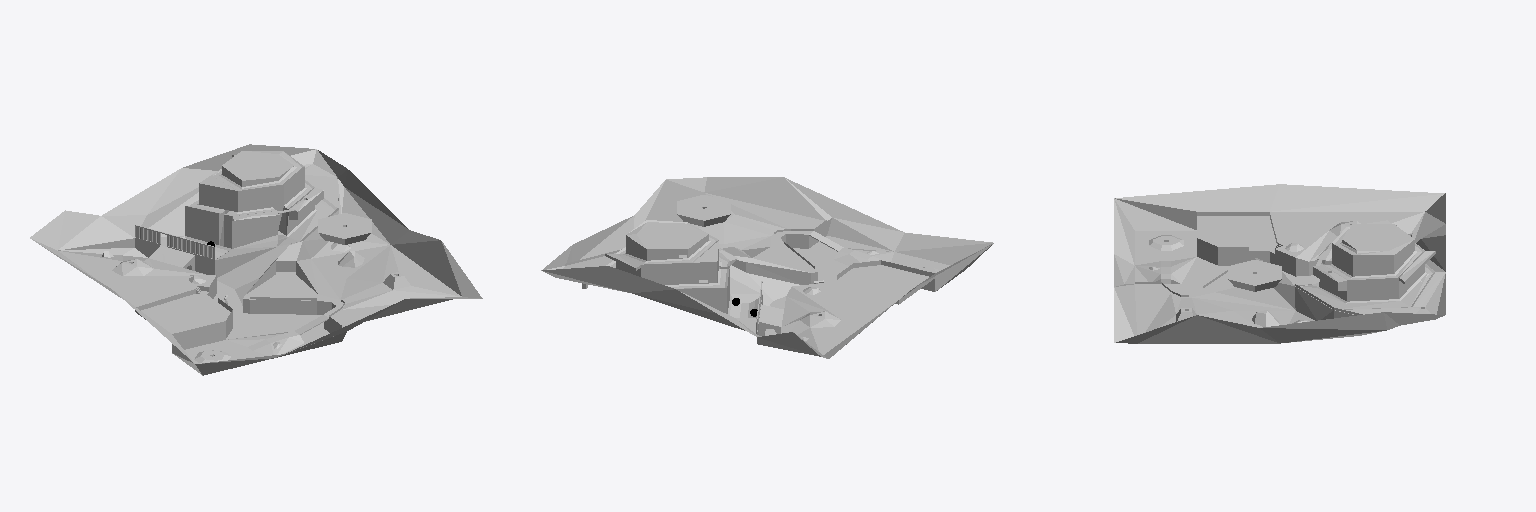
File: ds_bob.obj
The picture shows the model from 3 angles: view 1: azimuth 30°, elevation 25°; view 2: azimuth 150°, elevation 25°; view 3: azimuth 270°, elevation 25°; orthographic projection.
Parts seen in each view (by area): view 1: r0-node_r0-mesh; view 2: r0-node_r0-mesh; view 3: r0-node_r0-mesh.
Part boxes in pixels (x1,y1,x2,y2): r0-node_r0-mesh: (30,144,482,375); r0-node_r0-mesh: (541,177,993,358); r0-node_r0-mesh: (1114,184,1445,343).
Size of the model in its own units: 120 by 34.26 by 120.